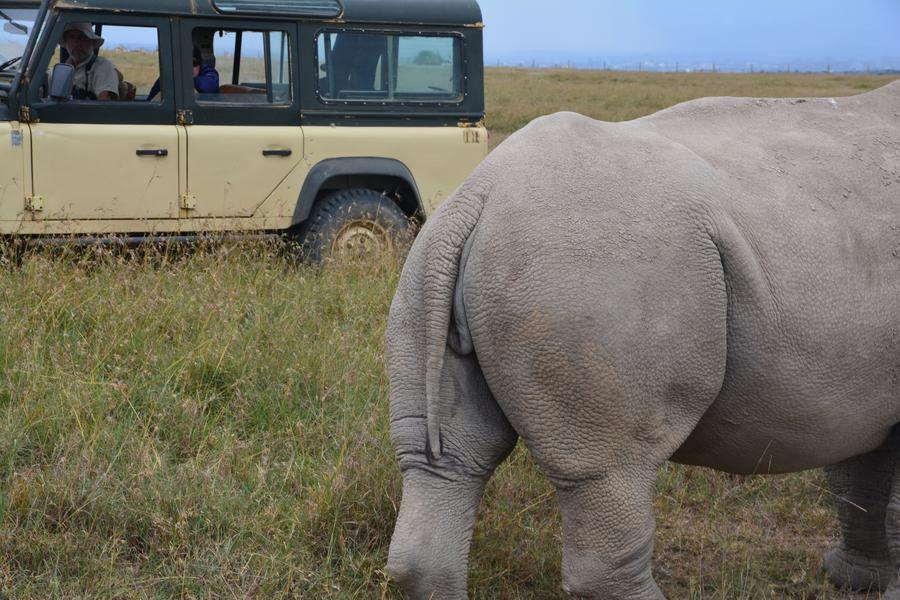rhino: (383, 61, 893, 580)
